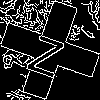Z: (25, 25, 70, 79)
